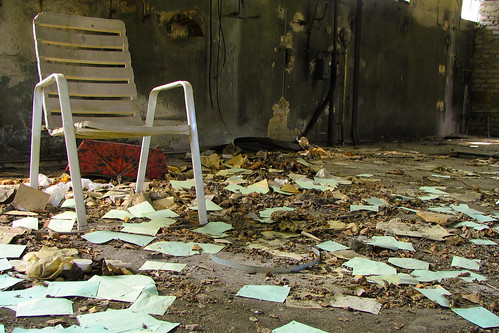chair: (20, 15, 223, 228)
trash: (1, 159, 499, 333)
